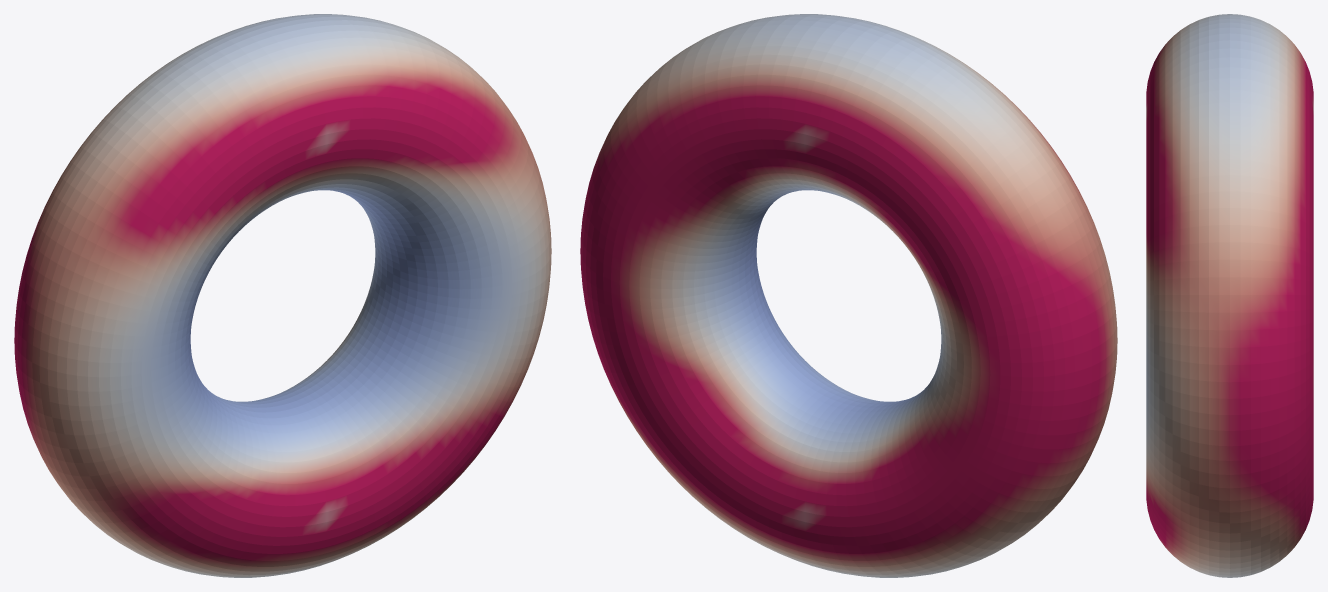
The picture shows the model from 3 angles, left to right: view 1: azimuth 30°, elevation 25°; view 2: azimuth 150°, elevation 25°; view 3: azimuth 270°, elevation 25°; orthographic projection. The views are drawn at different scales.
Visible parts, largest first — view 1: world; view 2: world; view 3: world.
Boxes of the visible parts, box(x1,y1,x2,y2) form: world: box(14, 14, 551, 577); world: box(580, 14, 1117, 577); world: box(1146, 14, 1313, 577).
Size of the model in its own units: 24.67 by 24.67 by 7.32.
